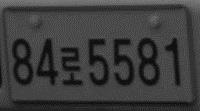1: (163, 36, 182, 87)
4: (35, 37, 59, 85)
5: (87, 37, 109, 86), (113, 37, 134, 86)
8: (10, 36, 33, 85), (137, 37, 160, 86)
로: (59, 46, 83, 86)
